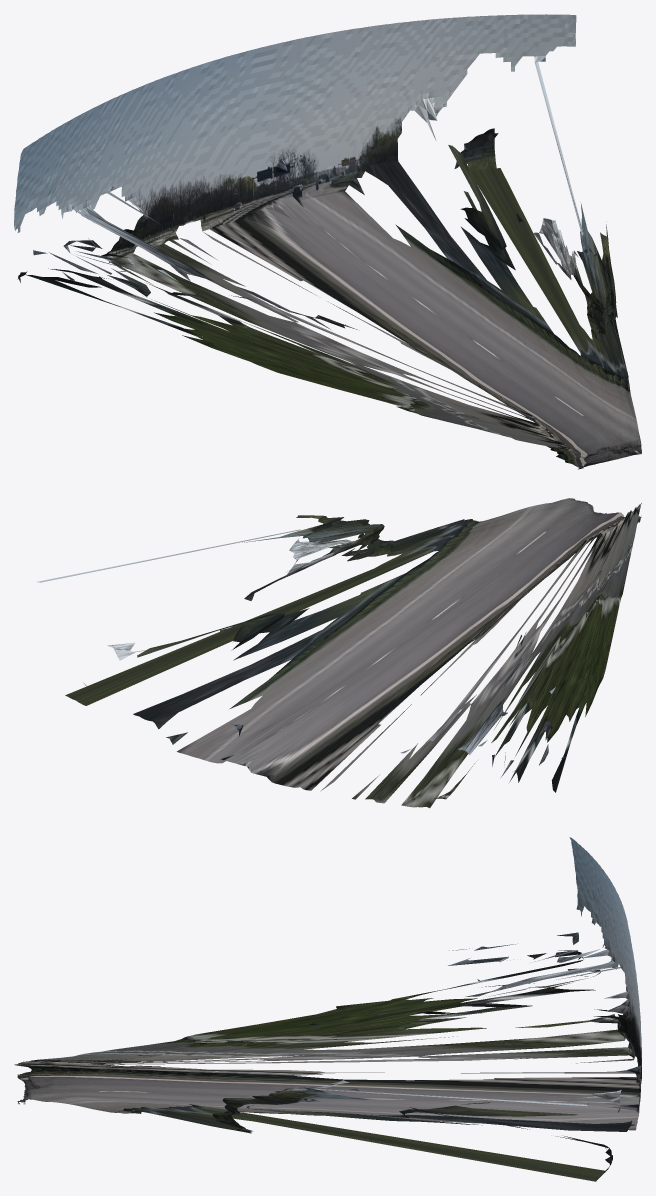
The picture shows the model from 3 angles, top to bottom: view 1: azimuth 30°, elevation 25°; view 2: azimuth 150°, elevation 25°; view 3: azimuth 270°, elevation 25°; orthographic projection. The views are drawn at different scales.
Visible parts, largest first — view 1: defaultobject; view 2: defaultobject; view 3: defaultobject.
Boxes of the visible parts, <box> form: defaultobject: <box>14,14,641,469</box>; defaultobject: <box>37,498,641,808</box>; defaultobject: <box>14,837,641,1181</box>.
Size of the model in its own units: 40.94 by 12.23 by 44.9.
Materials: 1 (1 with a texture image).
